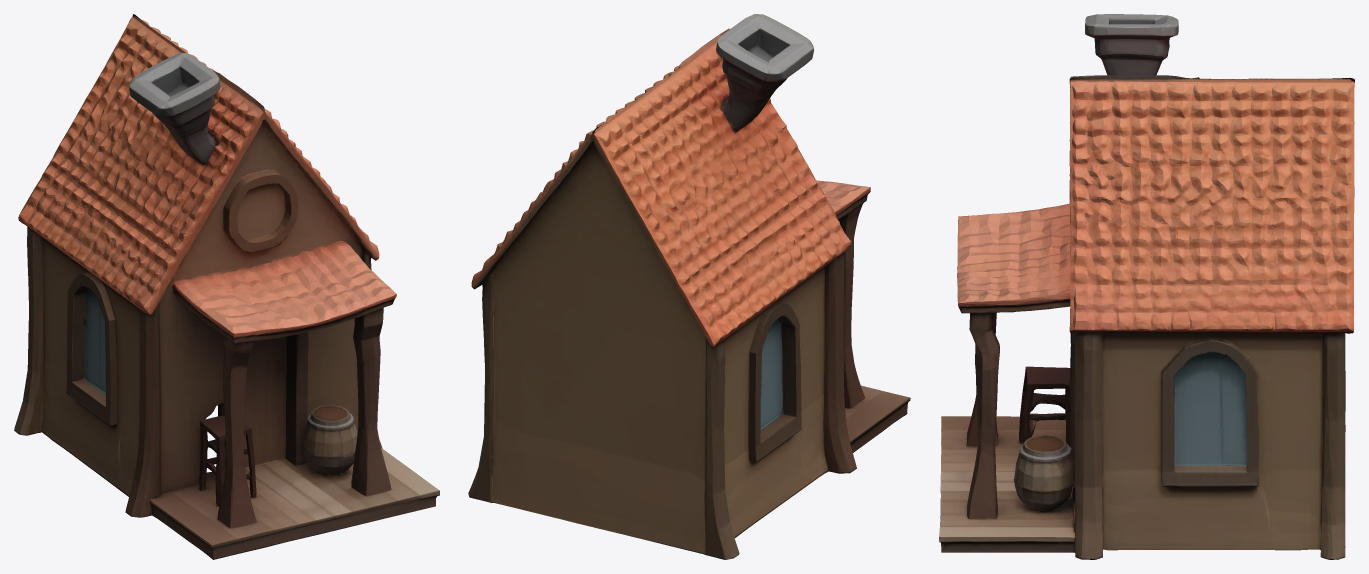
The model's file is voxhammer_t02.glb.
3 views of the same model, side by side, from view 1: azimuth 30°, elevation 25°; view 2: azimuth 150°, elevation 25°; view 3: azimuth 270°, elevation 25° (orthographic). The views are drawn at different scales.
Parts seen in each view (by area): view 1: geometry_0; view 2: geometry_0; view 3: geometry_0.
Part boxes in pixels (x1,y1,x2,y2): geometry_0: [14, 14, 439, 559]; geometry_0: [468, 14, 910, 559]; geometry_0: [939, 14, 1354, 559].
Size of the model in its own units: 0.7249 by 1.13 by 0.9473.
1 material, 1 textured.
